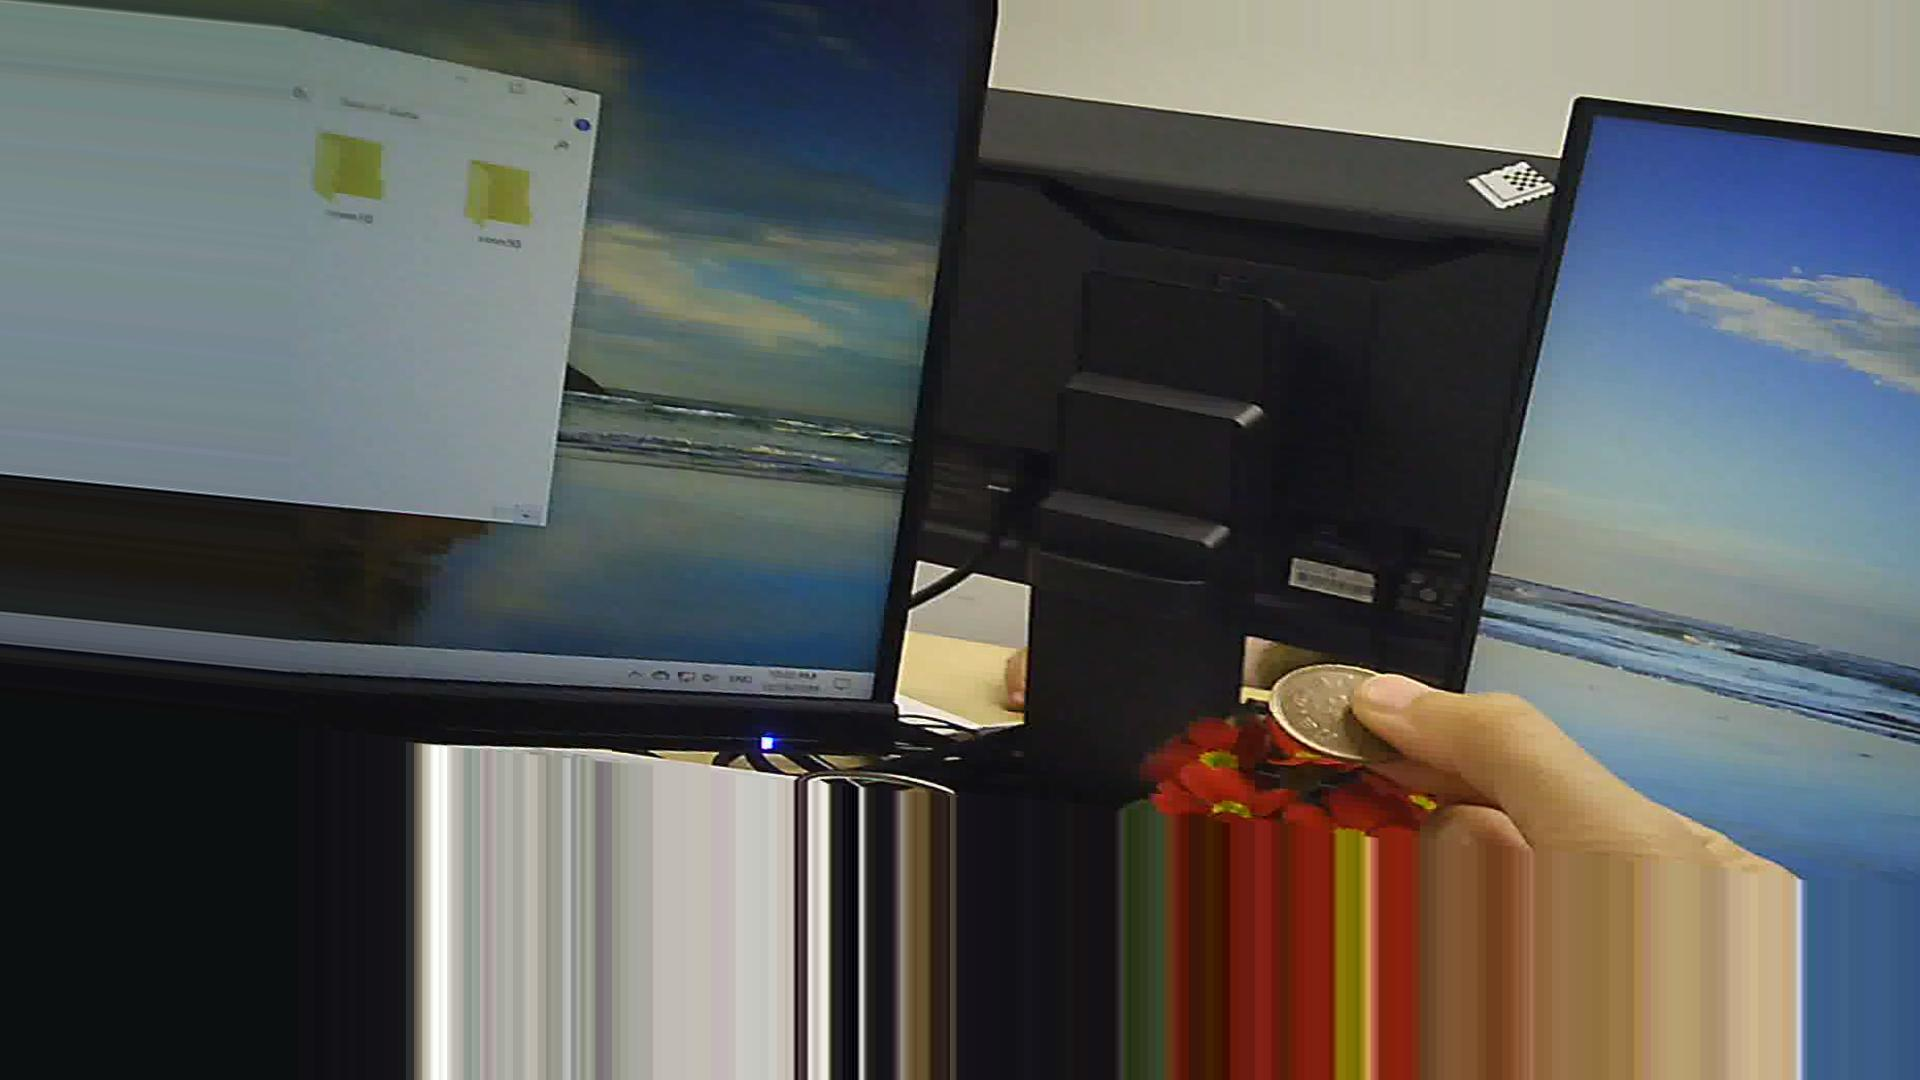10 Yen: (1262, 663, 1423, 765)
